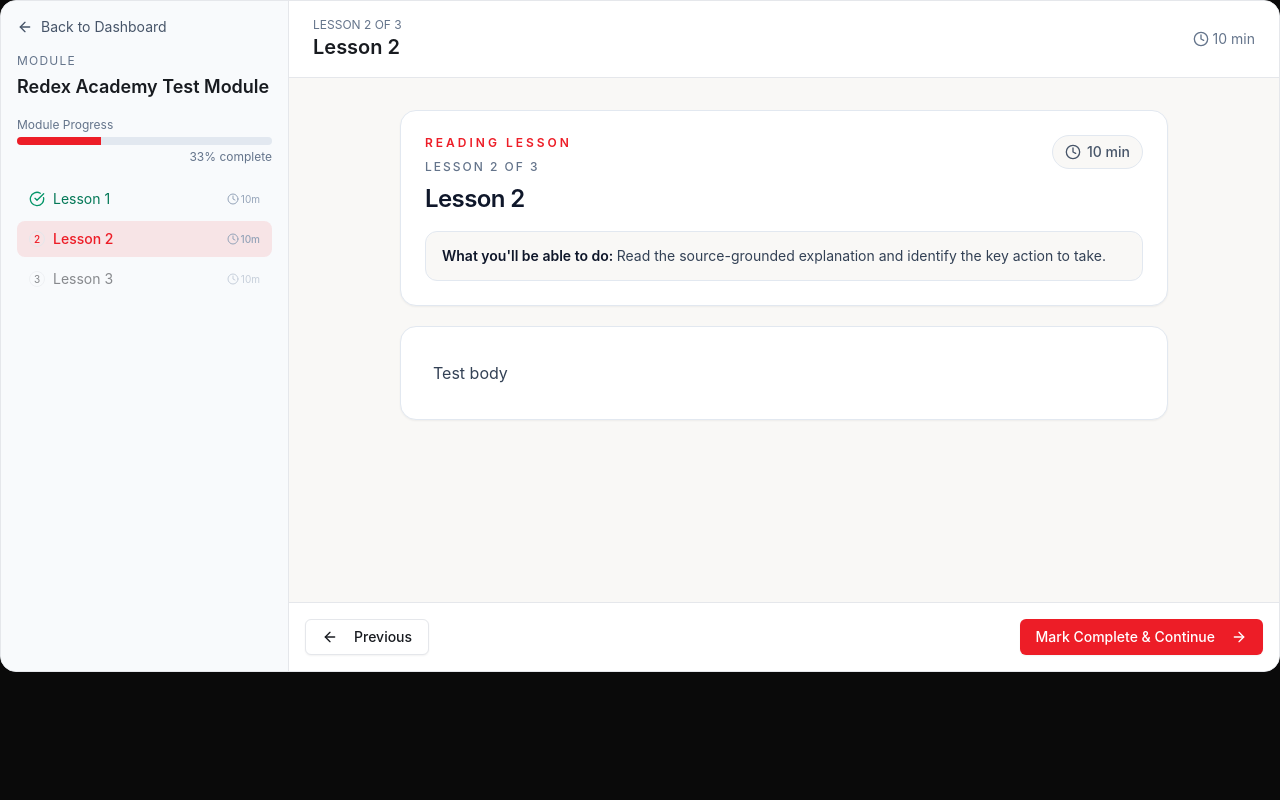
Scenario: Redex Academy learner module player › keeps current and completed lessons navigable
Click the button "Lesson 1 10m".
click(144, 199)  # box [17,181,272,217]
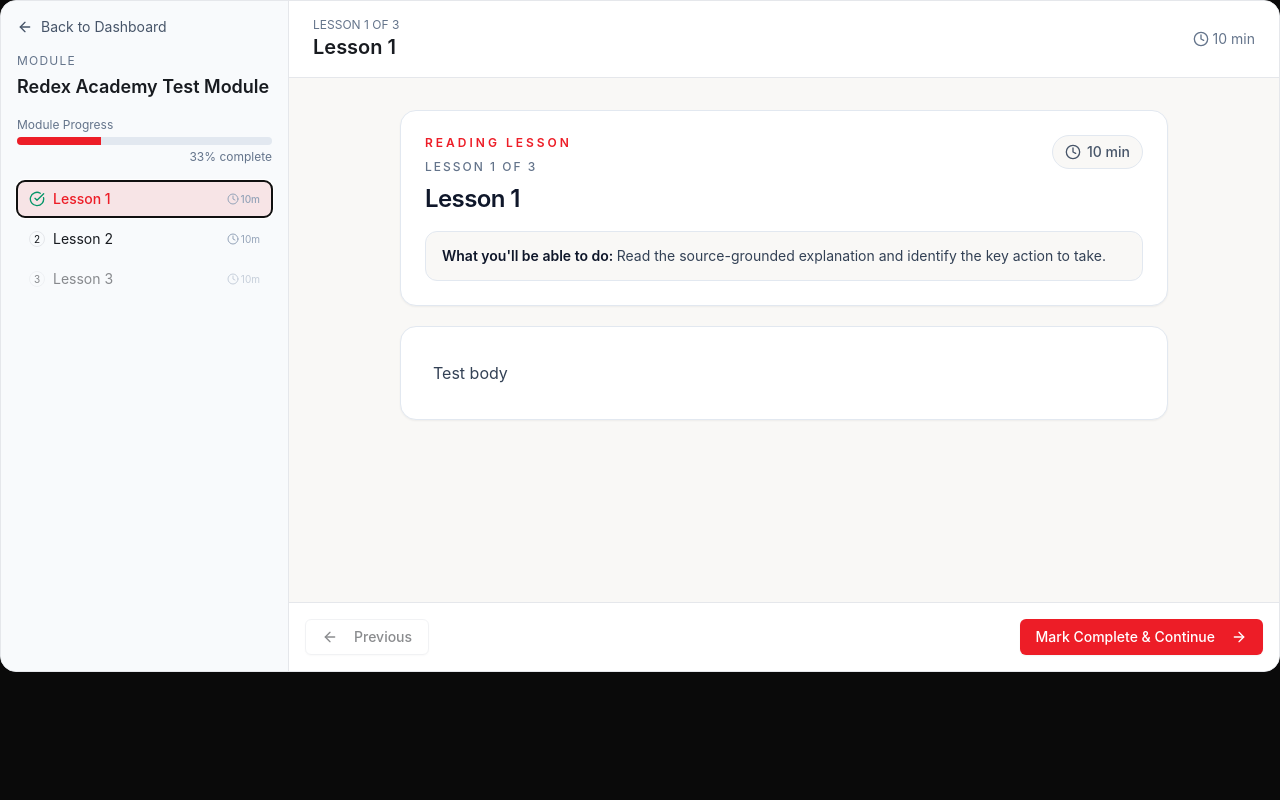
Now the text "LESSON 1 OF 3" is shown, box [313,17,399,33]
